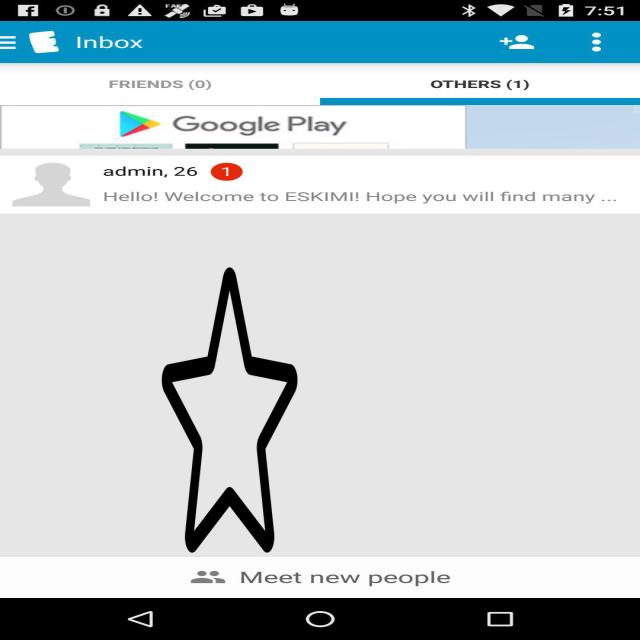forced continuity: (162, 261, 297, 559)
